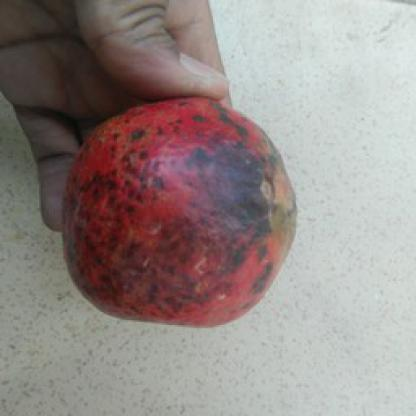pomegranate_rotten: (54, 94, 299, 328)
